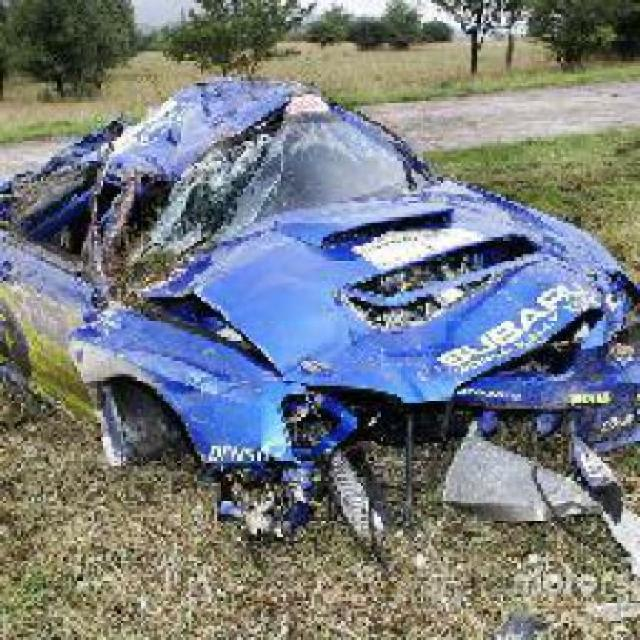damaged-windscreen: (138, 106, 450, 225)
